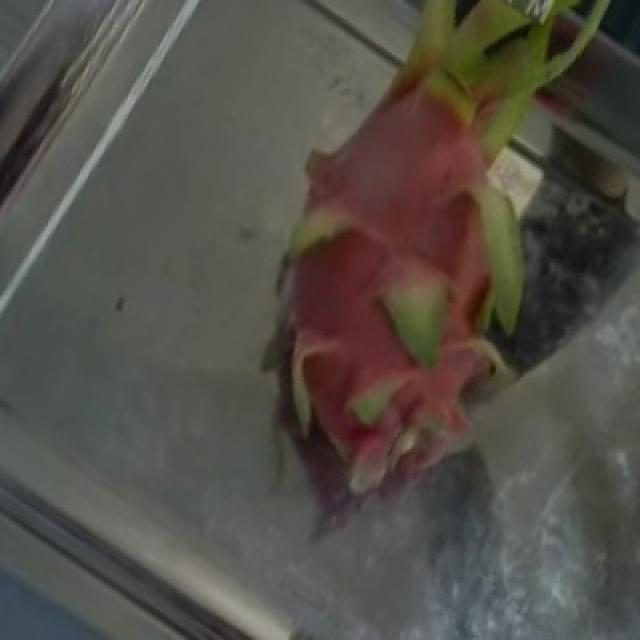fruit: (224, 0, 640, 384)
